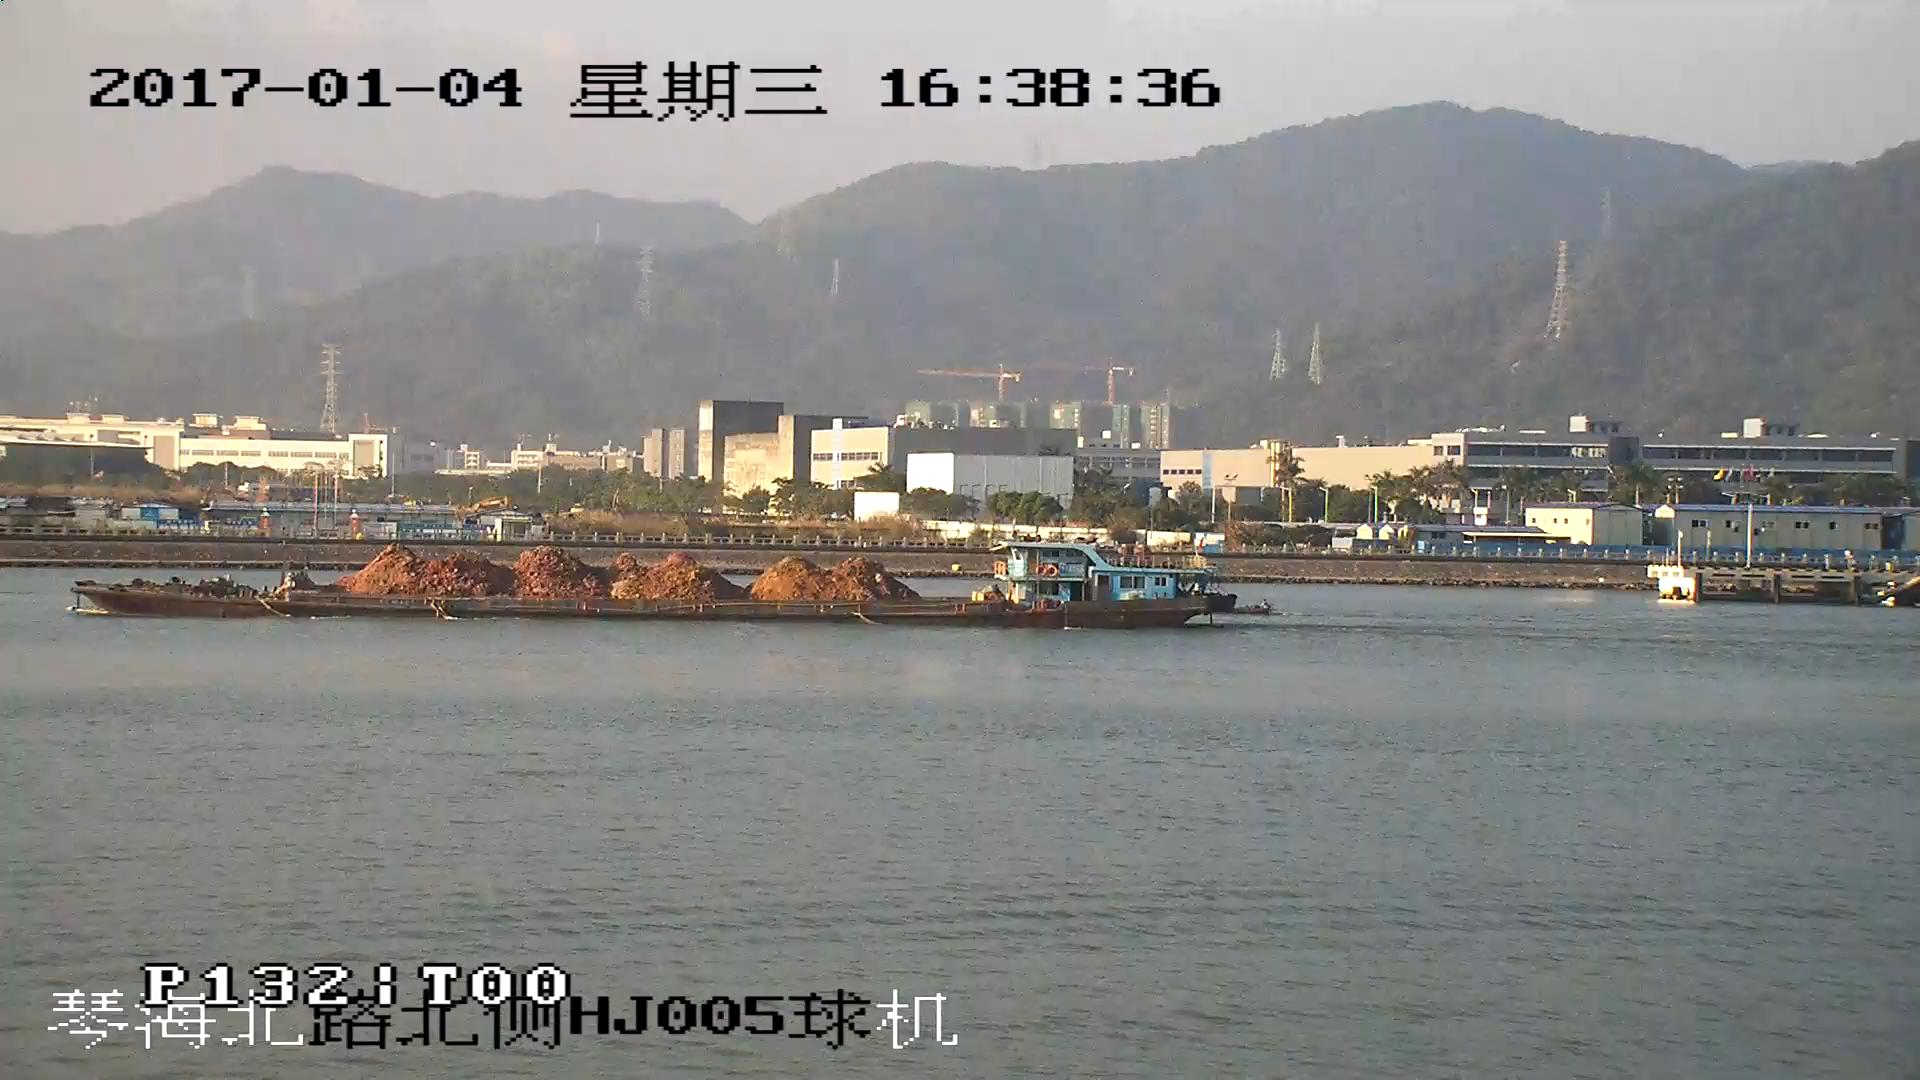ore carrier: (78, 540, 1231, 628)
